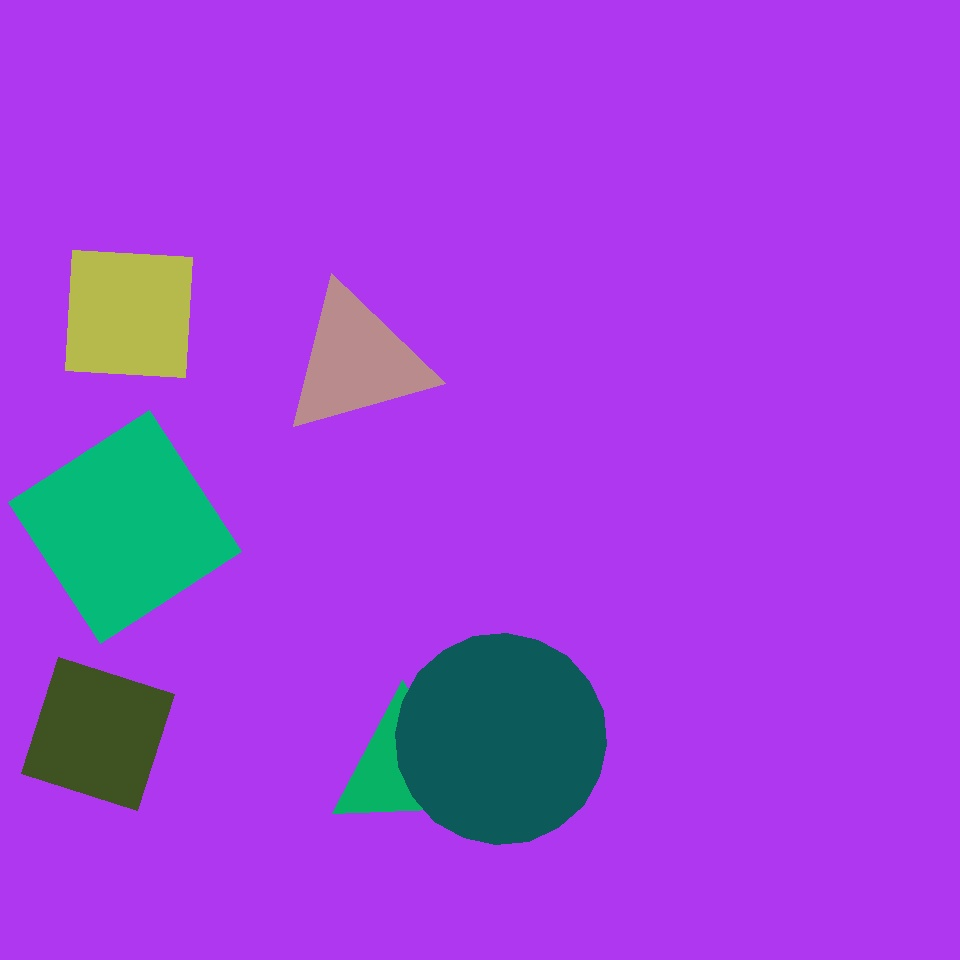circle: (281, 284, 433, 437), (331, 700, 481, 834)
square: (9, 410, 242, 644), (22, 657, 174, 810), (66, 250, 192, 378)
triangle: (396, 634, 606, 844)
